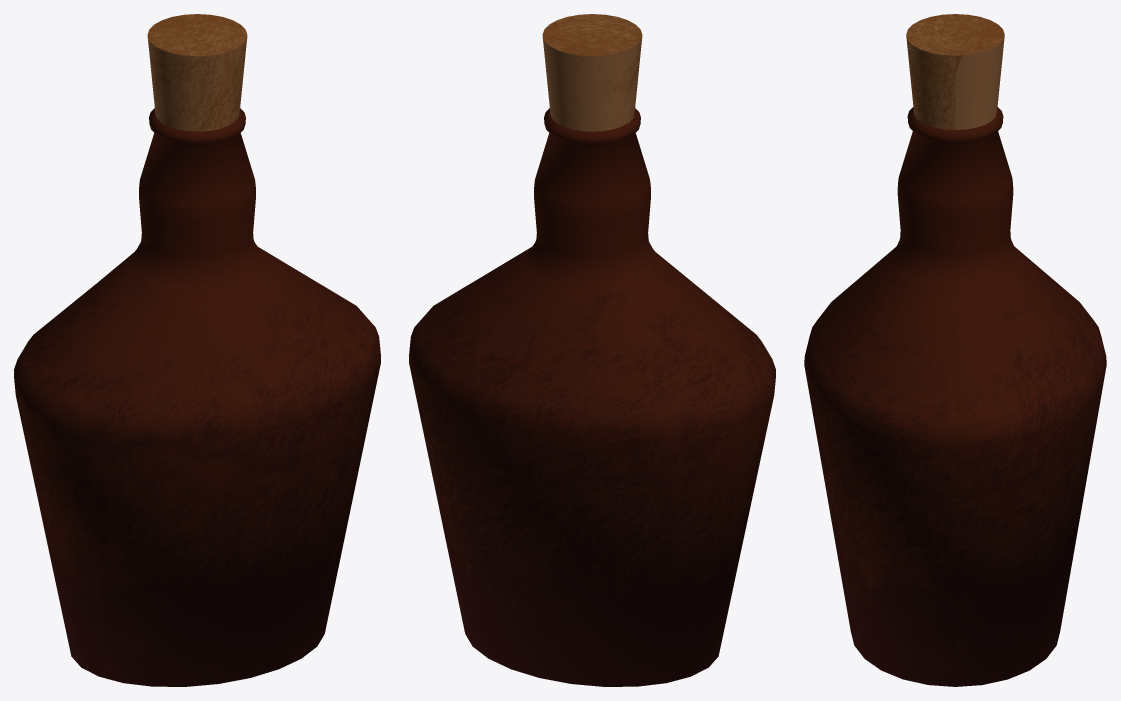
Rendered from 유리병1.fbx.
3 views of the same model, side by side, from view 1: azimuth 30°, elevation 25°; view 2: azimuth 150°, elevation 25°; view 3: azimuth 270°, elevation 25° (orthographic).
Parts seen in each view (by area): view 1: 1번; view 2: 1번; view 3: 1번.
Part boxes in pixels (x1,y1,x2,y2): 1번: (14,14,380,686); 1번: (409,14,775,686); 1번: (804,14,1106,686).
Size of the model in its own units: 249 by 429 by 197.
1 material, 1 textured.
